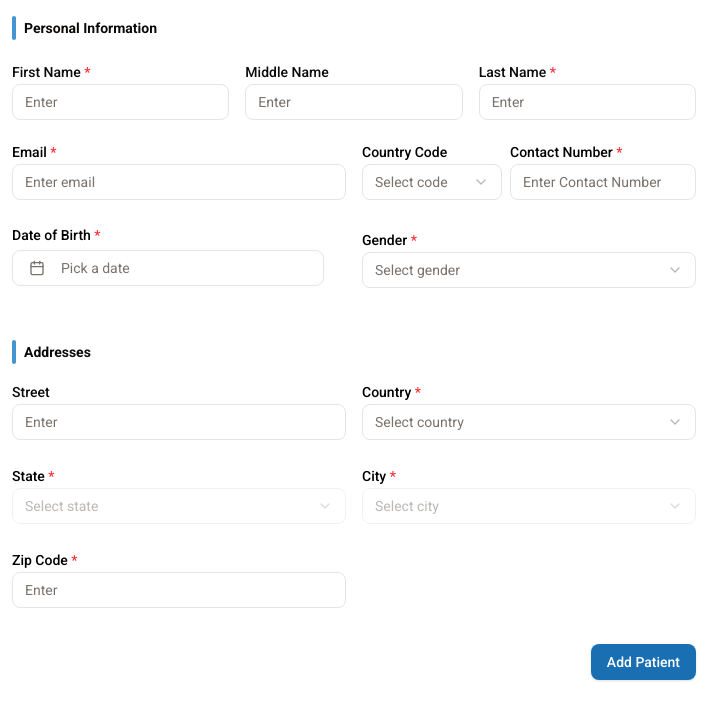
Scenario: PatientOnboardingForm Integration › validates all required fields
The width and height of the screenshot is (713, 712).
Click the button "Add Patient". click: point(643, 662)
box: [591,644,696,680]
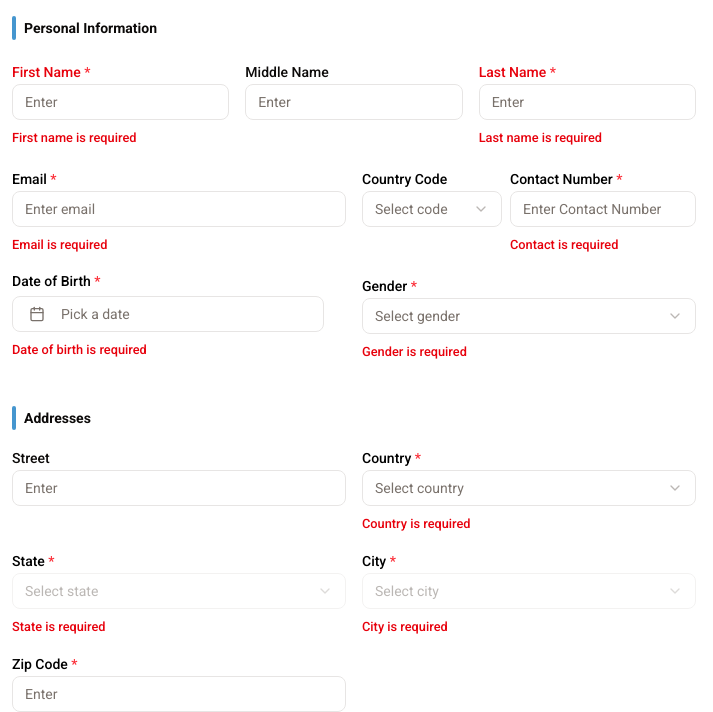
Check: the text "First name is required" is shown, box [12,130,136,145]
